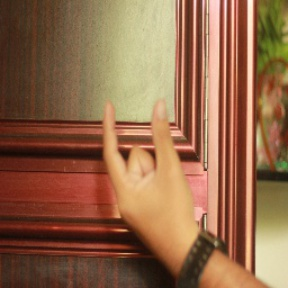U: (100, 88, 194, 232)
